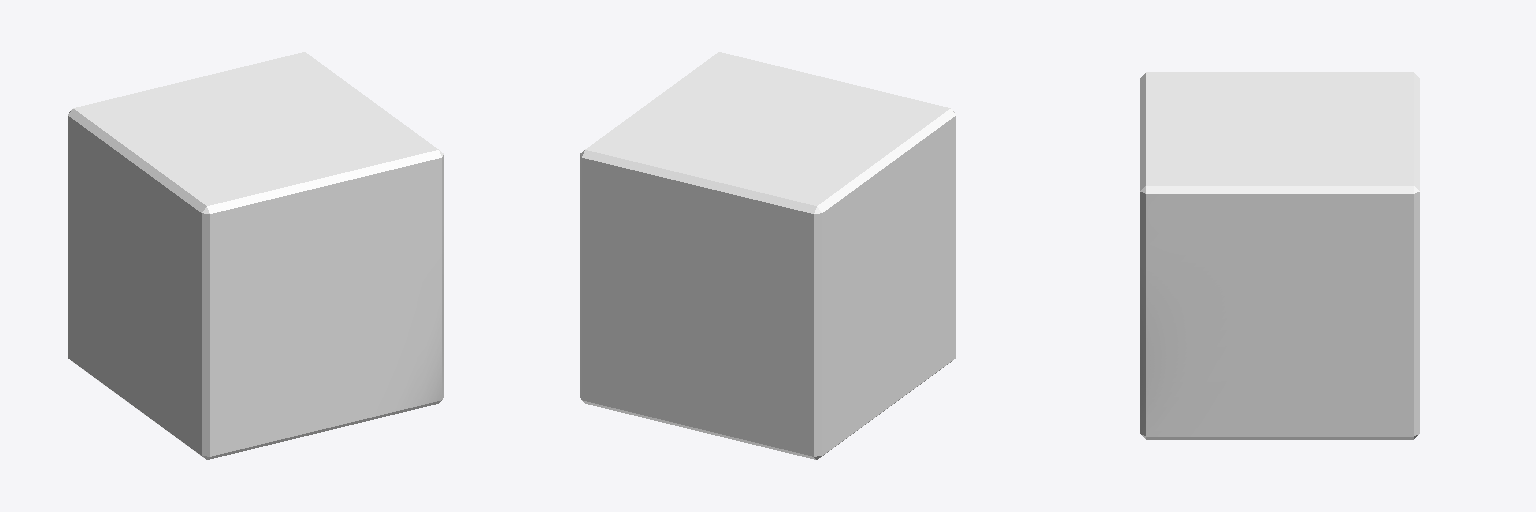
3 renders of one model, left to right at view 1: azimuth 30°, elevation 25°; view 2: azimuth 150°, elevation 25°; view 3: azimuth 270°, elevation 25°, orthographic.
Parts seen in each view (by area): view 1: Cube; view 2: Cube; view 3: Cube.
Boxes of the visible parts, box(x1,y1,x2,y2) form: Cube: box(68, 52, 443, 459); Cube: box(580, 52, 955, 459); Cube: box(1140, 72, 1419, 439).
Bounding box in the file's own units: 2 × 2 × 2.
Materials: 1 (1 with a texture image).